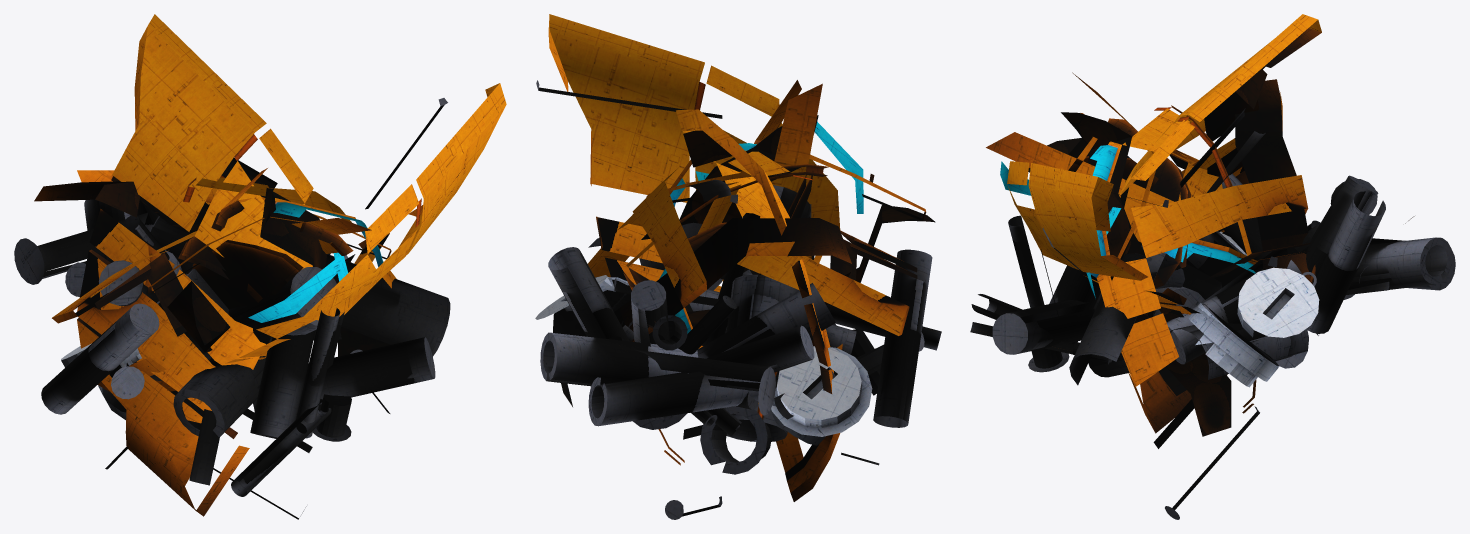
File: MonsterA_die9.obj
3 views of the same model, side by side, from view 1: azimuth 30°, elevation 25°; view 2: azimuth 150°, elevation 25°; view 3: azimuth 270°, elevation 25° (orthographic). The views are drawn at different scales.
Parts seen in each view (by area): view 1: Box001; view 2: Box001; view 3: Box001.
Part boxes in pixels (x1,y1,x2,y2): Box001: (14,14,506,519); Box001: (535,14,941,519); Box001: (970,14,1455,519).
Size of the model in its own units: 246 by 272 by 257.
1 material, 1 textured.
